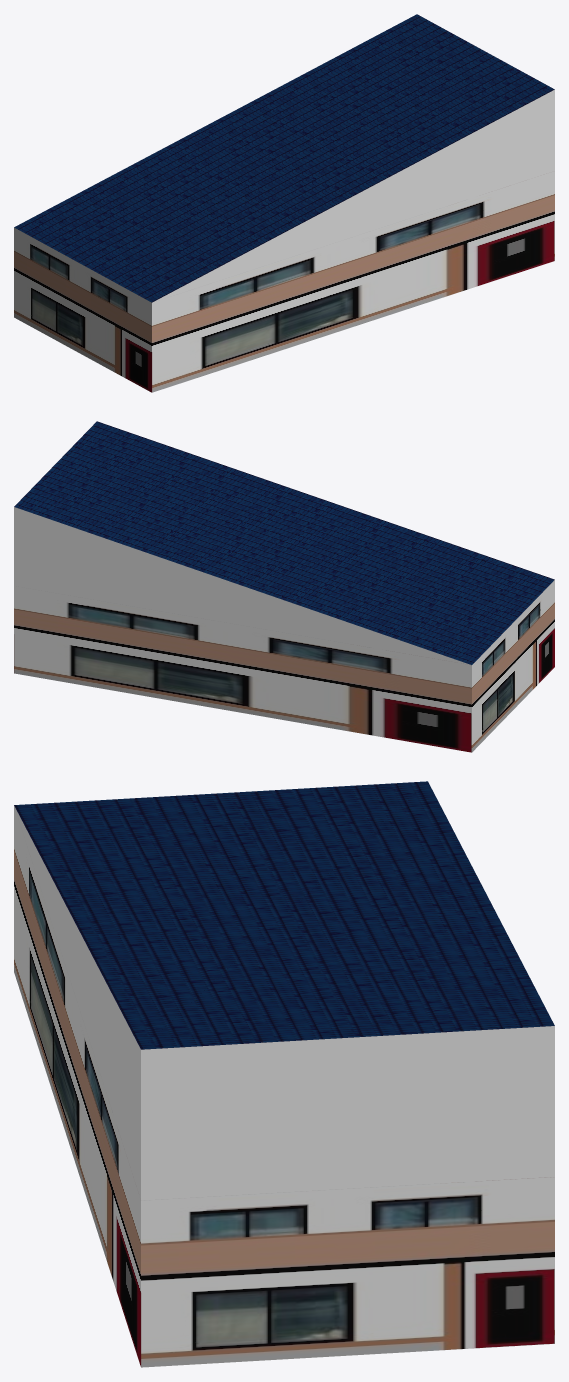
3 views of the same model, one above another, from view 1: azimuth 30°, elevation 25°; view 2: azimuth 150°, elevation 25°; view 3: azimuth 270°, elevation 25° (orthographic). The views are drawn at different scales.
Parts seen in each view (by area): view 1: CityEngineMaterial_6_m, CityEngineMaterial_5_m, CityEngineMaterial_3_m; view 2: CityEngineMaterial_6_m, CityEngineMaterial_5_m, CityEngineMaterial_3_m; view 3: CityEngineMaterial_6_m, CityEngineMaterial_5_m, CityEngineMaterial_3_m.
Boxes of the visible parts, left/top/right/bottom form: CityEngineMaterial_6_m: left=14, top=14, right=554, bottom=302; CityEngineMaterial_5_m: left=14, top=171, right=554, bottom=392; CityEngineMaterial_3_m: left=153, top=89, right=554, bottom=302; CityEngineMaterial_6_m: left=14, top=421, right=554, bottom=664; CityEngineMaterial_5_m: left=14, top=580, right=554, bottom=752; CityEngineMaterial_3_m: left=14, top=507, right=470, bottom=664; CityEngineMaterial_6_m: left=14, top=781, right=554, bottom=1049; CityEngineMaterial_5_m: left=14, top=806, right=554, bottom=1367; CityEngineMaterial_3_m: left=14, top=806, right=554, bottom=1200.
Bounding box in the file's own units: 49.1 × 17.36 × 26.78.
